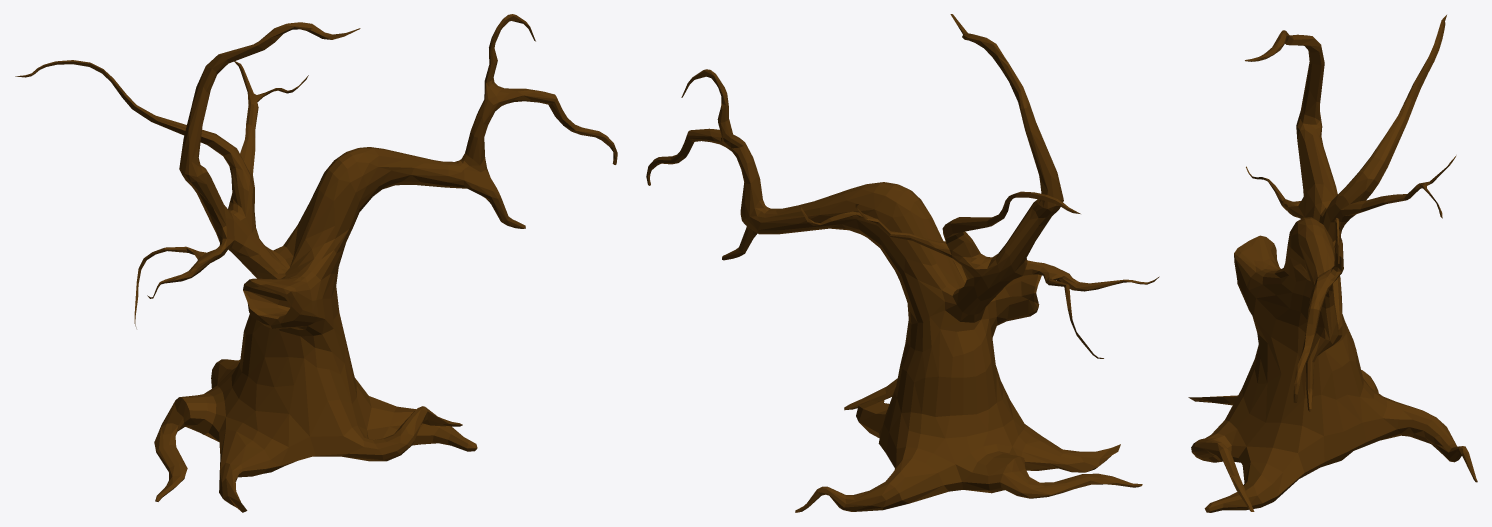
File: willowDead.fbx
3 views of the same model, side by side, from view 1: azimuth 30°, elevation 25°; view 2: azimuth 150°, elevation 25°; view 3: azimuth 270°, elevation 25° (orthographic). The views are drawn at different scales.
Visible parts, largest first — view 1: Cylinder.002; view 2: Cylinder.002; view 3: Cylinder.002.
Boxes of the visible parts, bbox=[...] form: Cylinder.002: bbox=[15, 14, 617, 512]; Cylinder.002: bbox=[646, 14, 1159, 512]; Cylinder.002: bbox=[1188, 15, 1477, 512].
Size of the model in its own units: 76836 by 61587 by 38874.
